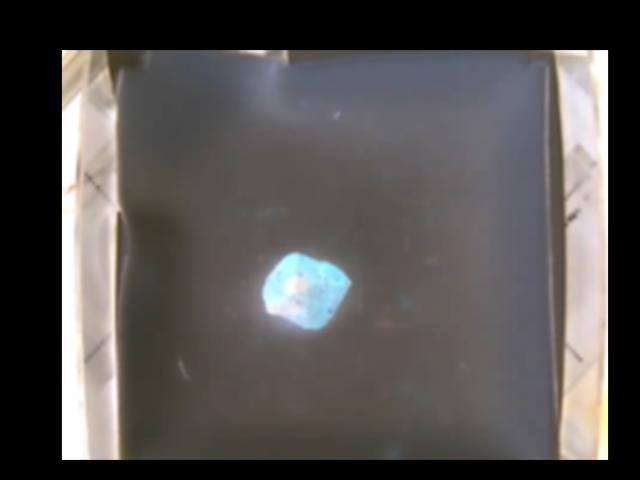Brisk: (260, 249, 352, 328)
